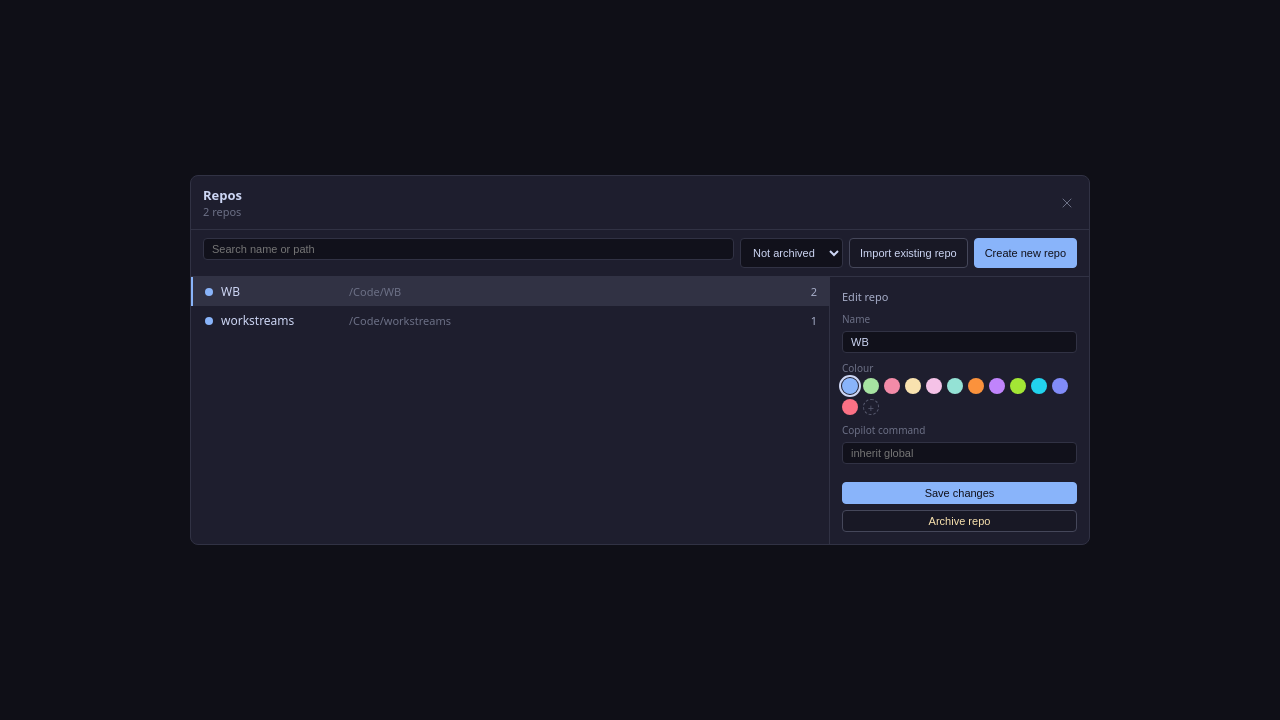
it: RepoManagerModal › reports when a search matches nothing
In the field with test id "repo-manager-search": (469, 249) 203,238 -> 734,260, type "zzz"
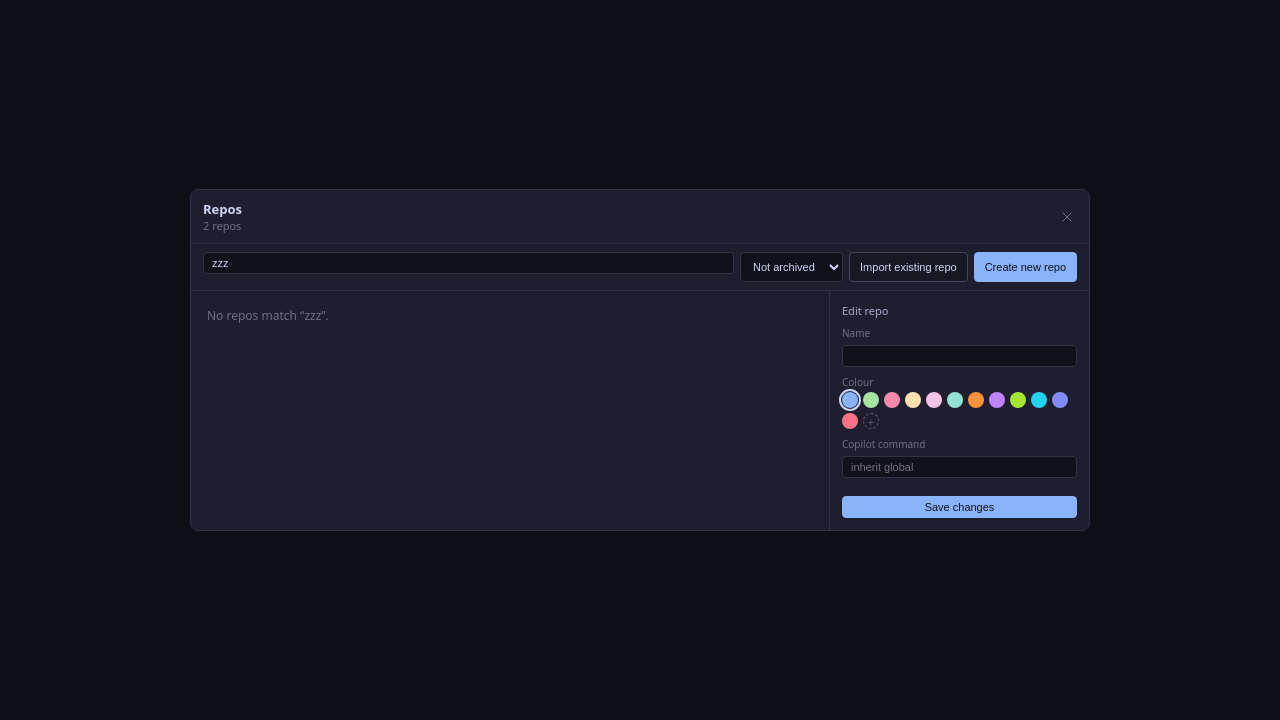
expect the text "No repos match “zzz”." is shown: met, box 207,307 -> 329,324
